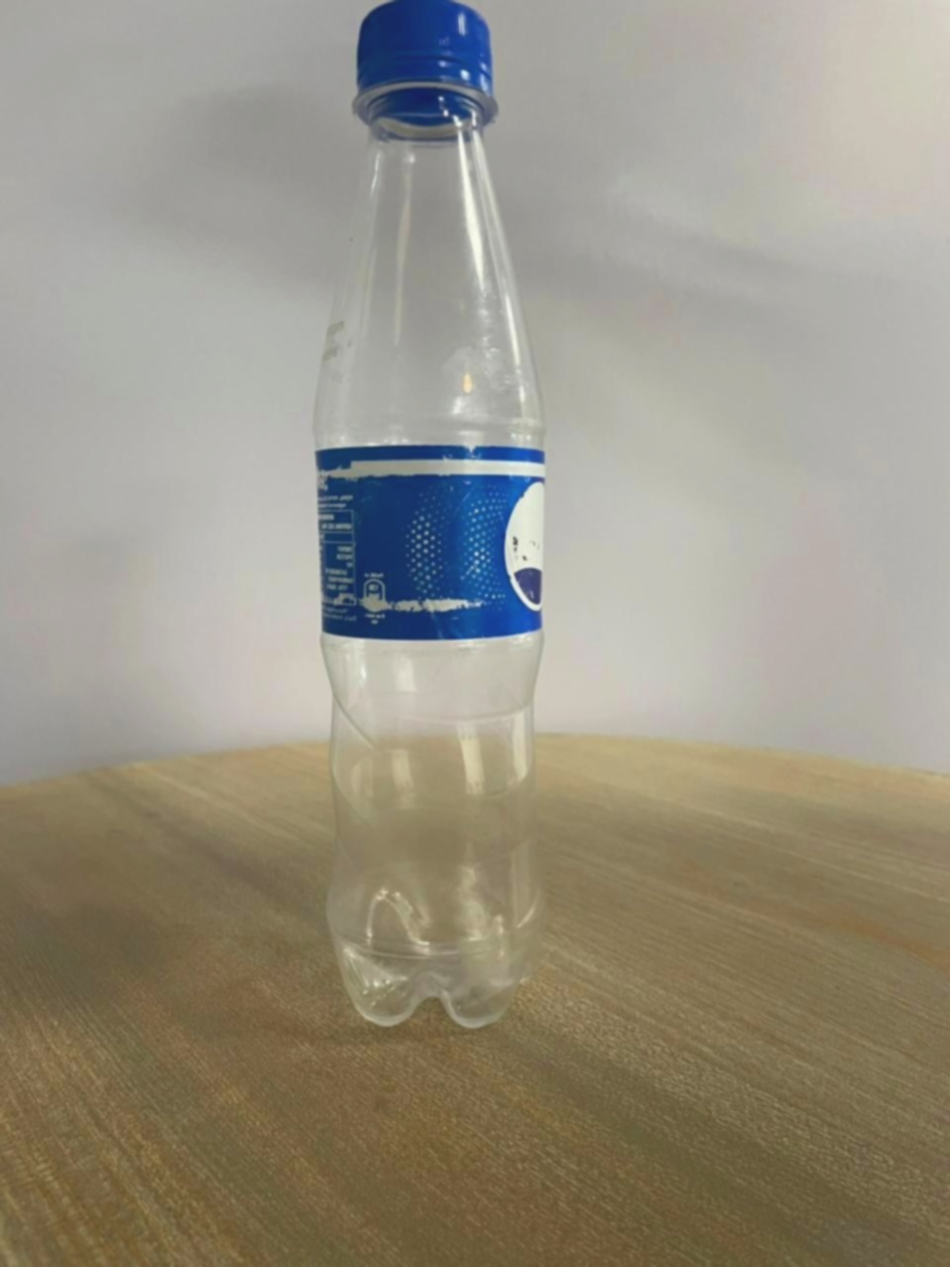Pepsi Bottle: (289, 0, 559, 1051), (293, 1, 559, 1047)
